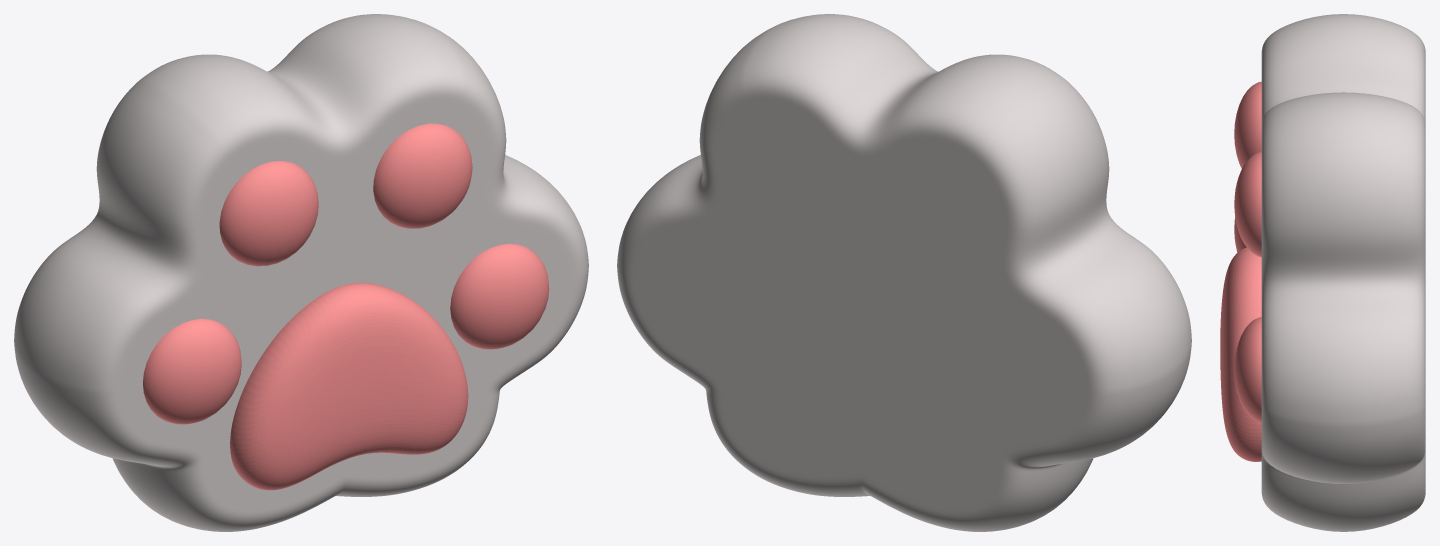
The picture shows the model from 3 angles, left to right: view 1: azimuth 30°, elevation 25°; view 2: azimuth 150°, elevation 25°; view 3: azimuth 270°, elevation 25°; orthographic projection. The views are drawn at different scales.
Parts seen in each view (by area): view 1: 圓形; view 2: 圓形; view 3: 圓形.
Part boxes in pixels (left/top/right/bottom): 圓形: left=14, top=14, right=588, bottom=531; 圓形: left=617, top=14, right=1191, bottom=531; 圓形: left=1220, top=14, right=1425, bottom=531.
Bounding box in the file's own units: 1.45 × 1.16 × 0.5126.
